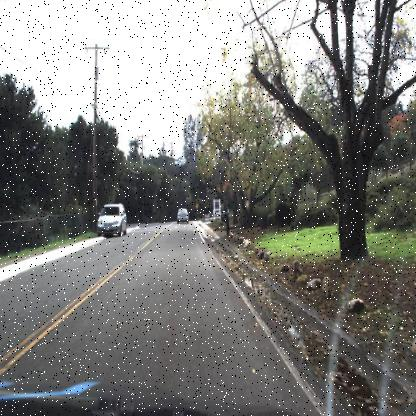car: (92, 194, 132, 242), (174, 204, 191, 228)
